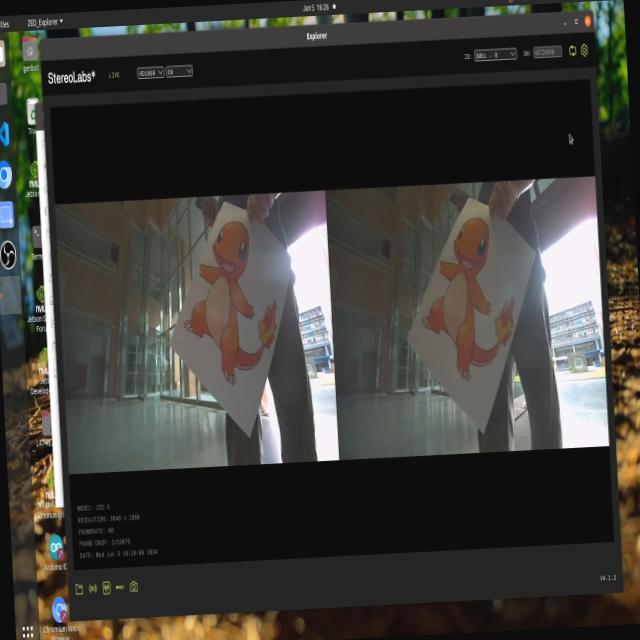red: (436, 188, 518, 402), (195, 190, 278, 362)
